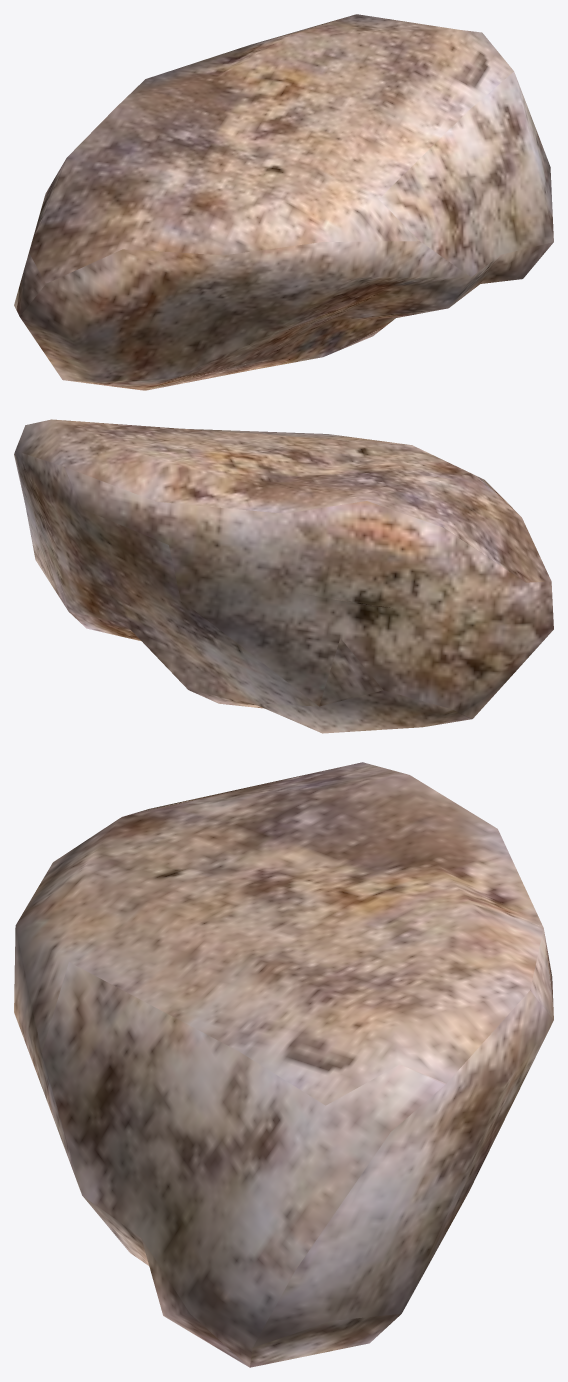
Rendered from rock057.glb.
3 renders of one model, top to bottom at view 1: azimuth 30°, elevation 25°; view 2: azimuth 150°, elevation 25°; view 3: azimuth 270°, elevation 25°, orthographic. The views are drawn at different scales.
Visible parts, largest first — view 1: rock057; view 2: rock057; view 3: rock057.
Part boxes in pixels (x1,y1,x2,y2): rock057: (14,14,553,390); rock057: (14,419,553,733); rock057: (14,762,553,1367).
Size of the model in its own units: 0.9929 by 0.4826 by 0.5555.
Materials: 1 (1 with a texture image).
